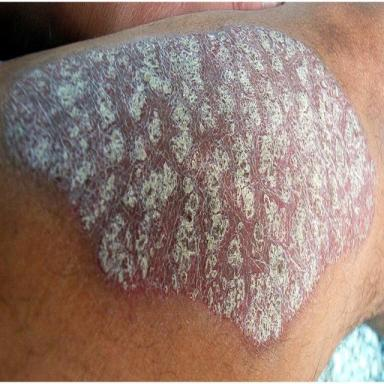Psoriasis: (4, 26, 375, 343)
